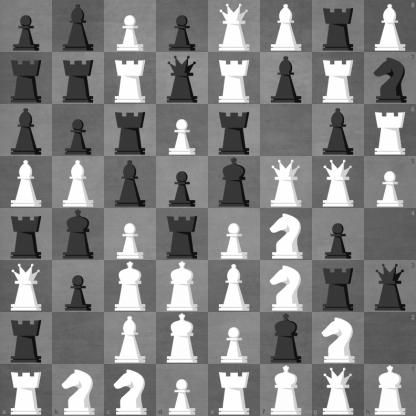B: (364, 0, 416, 52), (1, 157, 52, 208), (53, 157, 104, 208), (105, 313, 156, 364), (209, 261, 260, 312), (261, 1, 312, 52)
K: (260, 364, 312, 416), (364, 364, 416, 416), (105, 261, 156, 312), (157, 261, 208, 312), (157, 313, 208, 364)
N: (52, 364, 104, 416), (104, 364, 156, 416), (261, 209, 312, 260), (261, 261, 312, 312), (313, 313, 364, 364)
P: (156, 364, 209, 416), (364, 156, 416, 209), (105, 1, 156, 52), (105, 209, 156, 260), (157, 105, 208, 156), (209, 209, 260, 260), (209, 313, 260, 364)
Q: (312, 364, 364, 416), (1, 261, 52, 312), (209, 1, 260, 52), (261, 157, 312, 208), (313, 157, 364, 208)
R: (0, 364, 52, 416), (364, 104, 416, 156), (209, 364, 260, 416), (105, 53, 156, 104), (209, 53, 260, 104), (313, 53, 364, 104)
b: (1, 105, 52, 156), (53, 1, 104, 52), (105, 157, 156, 208), (261, 53, 312, 104), (313, 105, 364, 156)
board: (0, 0, 415, 415)
k: (53, 209, 104, 260), (209, 157, 260, 208), (261, 313, 312, 364)
n: (364, 52, 416, 104)
p: (1, 1, 52, 52), (53, 105, 104, 156), (53, 261, 104, 312), (157, 1, 208, 52), (157, 157, 208, 208), (313, 209, 364, 260)
q: (364, 260, 416, 312), (157, 53, 208, 104)
r: (1, 53, 52, 104), (1, 209, 52, 260), (1, 313, 52, 364), (53, 53, 104, 104), (105, 105, 156, 156), (157, 209, 208, 260), (209, 105, 260, 156), (313, 1, 364, 52), (313, 261, 364, 312)
